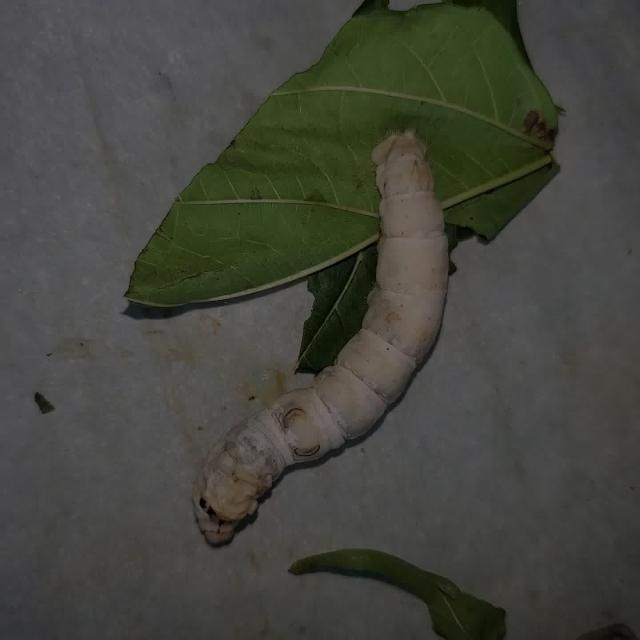Grasserie: (187, 111, 508, 568)
